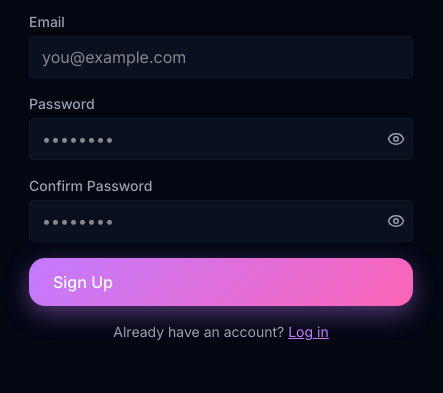
Test: SignupForm › shows error when passwords do not match
Type "test@example.com" into the field labelled "Email".
click(221, 57); type("test@example.com")  # box [29,36,413,78]
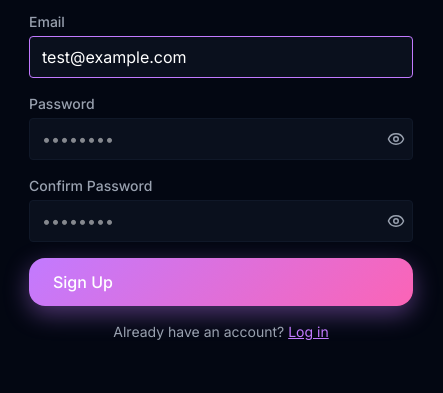
Type "secret123" into the password field labelled "Password".
click(221, 139); type("secret123")  # box [29,118,413,160]
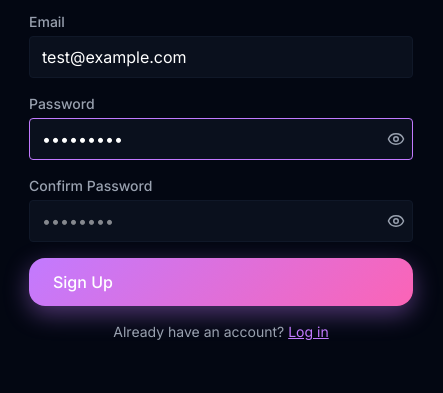
Type "different" into the password field labelled "Confirm Password".
click(221, 221); type("different")  # box [29,200,413,242]
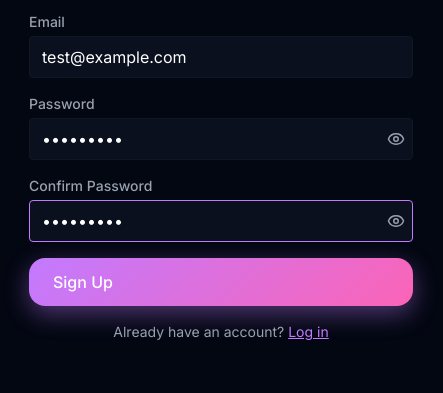
Click the button "Sign Up".
click(83, 282)  # box [29,258,413,306]
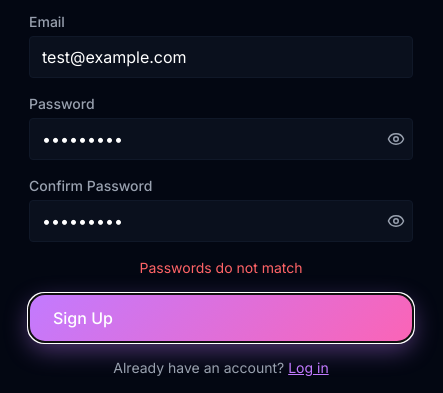
Expected: the message reads "Passwords do not match", [140,259,303,276]
